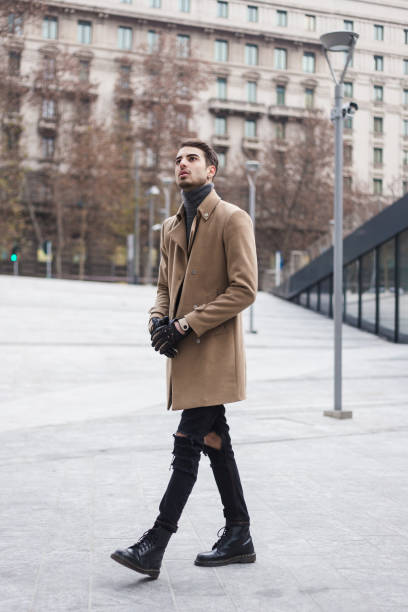person: (99, 137, 261, 583)
